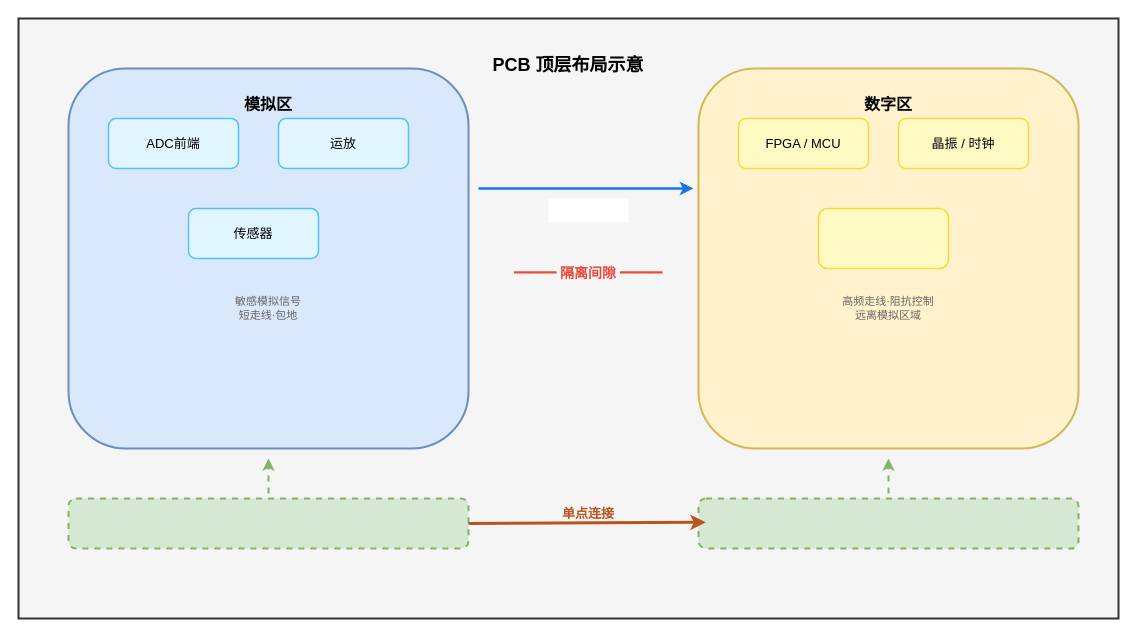
This 1136x636 diagram has some shape labels left out. Each missing label, with the centre of its shape:
"AGND 平面" belongs at (x=268, y=523).
"DGND 平面" belongs at (x=888, y=523).
"信号流向" belongs at (x=588, y=210).
"数字接口 (SPI / IIC / UART)" belongs at (x=883, y=238).
